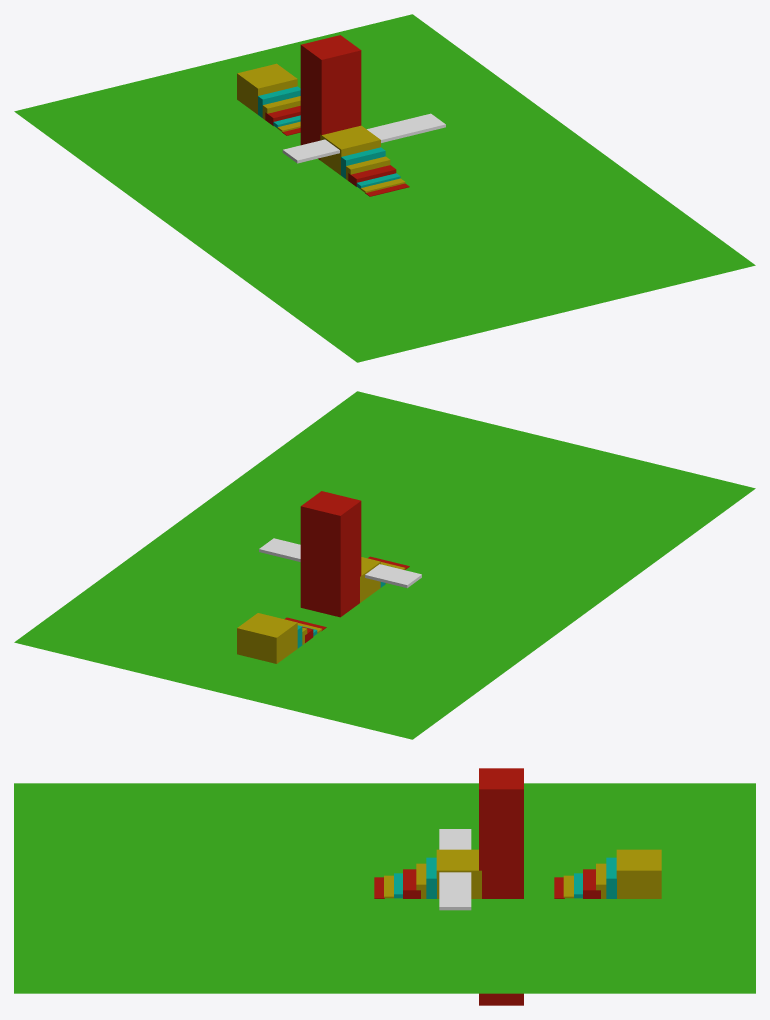
File: walkplatform.fbx
3 renders of one model, top to bottom at view 1: azimuth 30°, elevation 25°; view 2: azimuth 150°, elevation 25°; view 3: azimuth 270°, elevation 25°, orthographic. The views are drawn at different scales.
Visible parts, largest first — view 1: Plane, Box.14, Box.15, Box.11, Box.6; view 2: Plane, Box.14, Box.11, Box.15, Box.6; view 3: Plane, Box.14, Box.11, Box.15, Box.6, Box.13, Box.5, Box.3, Box.8.
Boxes of the visible parts, bbox=[...] form: Plane: bbox=[14, 14, 755, 362]; Box.14: bbox=[300, 35, 361, 159]; Box.15: bbox=[282, 113, 445, 163]; Box.11: bbox=[237, 63, 297, 114]; Box.6: bbox=[320, 125, 380, 175]; Plane: bbox=[14, 391, 755, 739]; Box.14: bbox=[300, 491, 361, 617]; Box.11: bbox=[237, 613, 297, 663]; Box.15: bbox=[259, 538, 421, 588]; Box.6: bbox=[360, 557, 380, 602]; Plane: bbox=[14, 783, 755, 993]; Box.14: bbox=[479, 768, 523, 1005]; Box.11: bbox=[616, 849, 661, 898]; Box.15: bbox=[439, 829, 471, 910]; Box.6: bbox=[436, 849, 481, 898]; Box.13: bbox=[606, 857, 616, 898]; Box.5: bbox=[426, 857, 436, 898]; Box.3: bbox=[403, 869, 420, 898]; Box.8: bbox=[583, 869, 600, 898].
Size of the model in its own units: 47.01 by 22.58 by 70.14.
